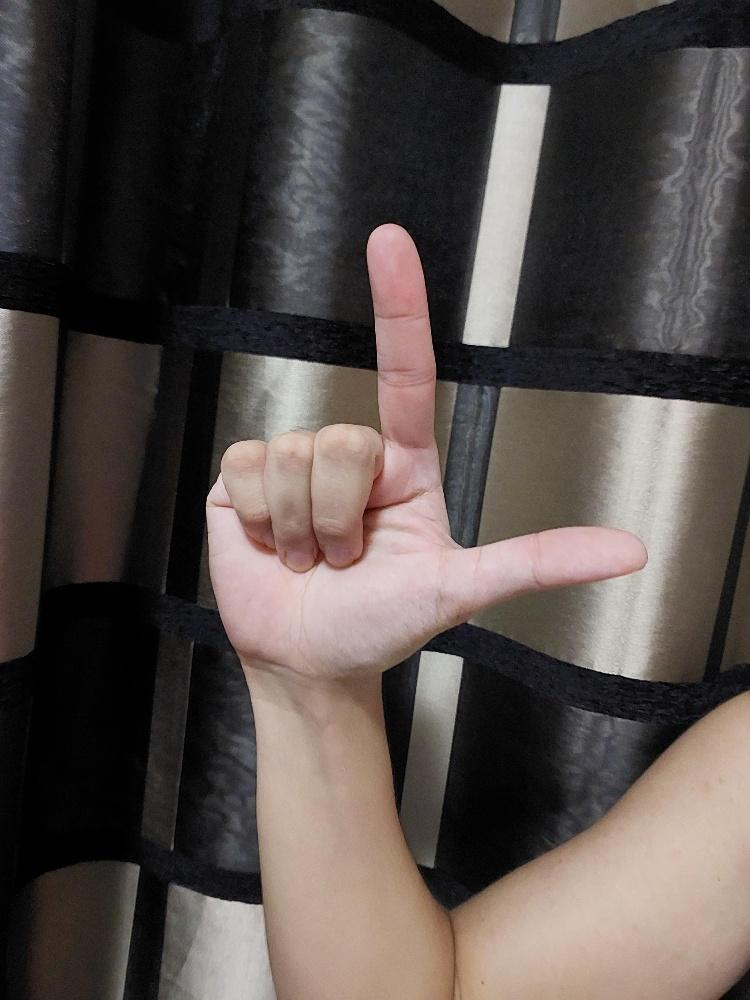l: (203, 215, 648, 677)
